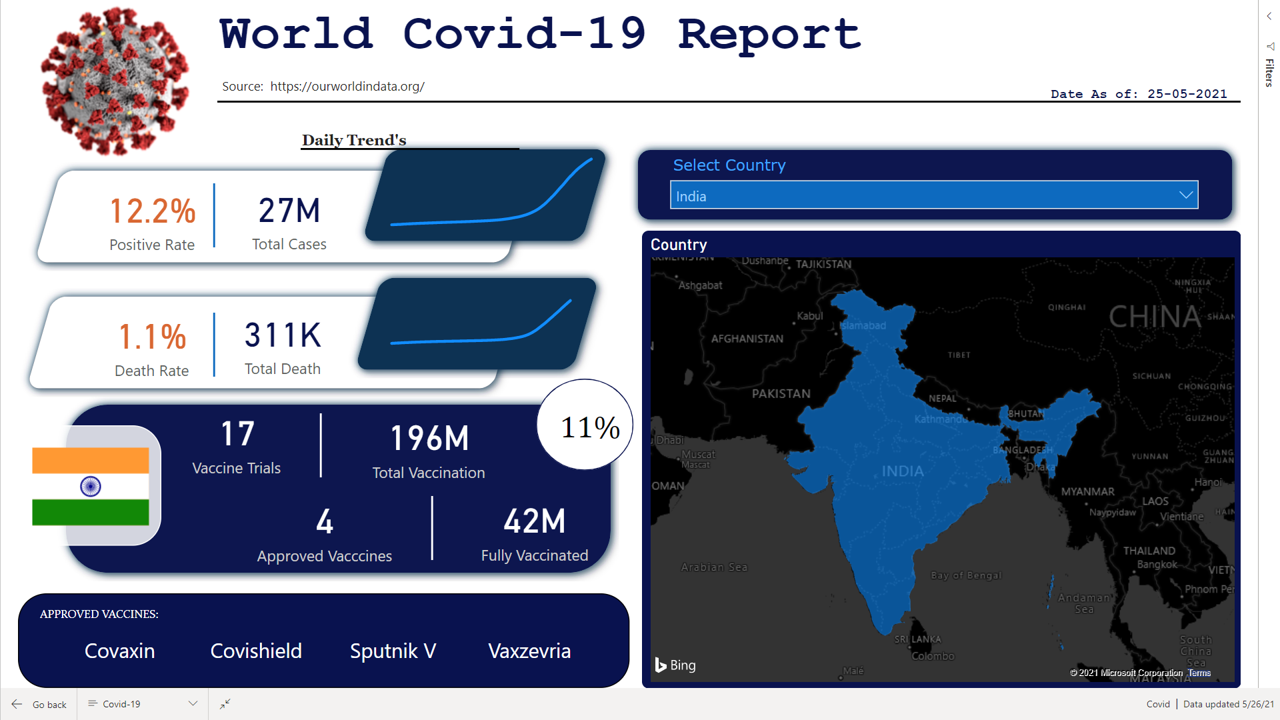

This screenshot's page, from the dashboard's own definition file:
{"tool":"powerbi","page":{"name":"Covid-19","canvas":[1280,720],"ordinal":0},"visuals":[{"type":"group","id":"g1","title":"Group 2","box":[8.6,169.3,538.8,114],"z":0,"group":"g4"},{"type":"shape","box":[41.2,414.5,587.9,193.9],"z":0},{"type":"shape","box":[351.2,147.1,275.7,114.5],"z":1000,"group":"g4"},{"type":"group","id":"g2","title":"Group 4","box":[0,301.5,532.9,113.2],"z":1000},{"type":"shape","box":[8.6,169.3,538.8,114],"z":1500,"group":"g1"},{"type":"shape","box":[640,147.9,640,90.9],"z":2000},{"type":"filledMap","fields":{"Category":["CountryList.CovidCountry"]},"box":[653.3,241.2,626.7,478.8],"z":3000},{"type":"card","fields":{"Values":["Sum(Vaccine Trial List.Approved Vacccines)"]},"box":[244.8,497,151.5,111.5],"z":4000},{"type":"shape","box":[343.4,281.8,274.5,114.5],"z":5000},{"type":"slicer","fields":{"Values":["CountryList.CovidCountry"]},"box":[672.7,157.6,573.3,83.6],"z":6000},{"type":"shape","box":[0,301.5,533.3,113.9],"z":6000,"group":"g2"},{"type":"card","title":"Total Cases","fields":{"Values":["Max(owid-covid-data.total_vaccinations)"]},"box":[357.6,409.7,144.2,111.5],"z":7000},{"type":"group","id":"g3","title":"Group 1","box":[465.5,497,151.5,111.5],"z":8000},{"type":"textbox","box":[206.1,1.2,1073.9,120],"z":9000},{"type":"textbox","box":[283.6,132.1,135.8,30.3],"z":10000},{"type":"shape","box":[541.8,396.4,101.8,95.8],"z":11000},{"type":"card","fields":{"Values":["Max(owid-covid-data.VaccinationRate)"]},"box":[553.9,389.1,89.7,111.5],"z":12000},{"type":"group","id":"g4","title":"Group 3","box":[8.6,147.1,618.3,136.3],"z":13000},{"type":"image","box":[0,0,202.4,169.7],"z":14000},{"type":"card","fields":{"Values":["Max(owid-covid-data.Death Rate)"]},"box":[77.6,305.5,124.8,106.7],"z":15000},{"type":"card","title":"Total Cases","fields":{"Values":["Max(owid-covid-data.total_deaths)"]},"box":[213.3,307.9,127.3,99.4],"z":16000},{"type":"lineChart","fields":{"Y":["Max(owid-covid-data.total_deaths)"],"Category":["owid-covid-data.date"]},"box":[375.8,276.4,217,101.8],"z":17000},{"type":"lineChart","fields":{"Category":["owid-covid-data.date"],"Y":["Max(owid-covid-data.total_cases)"]},"box":[375.8,140.6,238.8,100.6],"z":18000},{"type":"card","fields":{"Values":["Max(owid-covid-data.positive_rate)"]},"box":[38.2,180.9,204.8,93.3],"z":18000,"group":"g4"},{"type":"card","title":"Total Cases","fields":{"Values":["Max(owid-covid-data.people_fully_vaccinated)"]},"box":[465.5,497,151,111],"z":18000,"group":"g3"},{"type":"textbox","box":[208.5,76.4,298.2,35.2],"z":19000},{"type":"card","title":"Total Cases","fields":{"Values":["Max(owid-covid-data.total_cases)"]},"box":[190.9,177.3,186.7,99.4],"z":19000,"group":"g4"},{"type":"slicer","fields":{"Values":["VaccineApproveList.VName"]},"box":[0,620.6,640,99.4],"z":20000},{"type":"simpleImageEBC4593F96F1425FB3D84C5BF02B5075","fields":{"imageURL":["Country_Flags.ImageURL"]},"box":[0,444.8,150.3,126.1],"z":21000},{"type":"card","fields":{"Values":["Sum(Vaccine Trial List.Vaccine Trials)"]},"box":[161.2,409.7,134.5,101.8],"z":22000},{"type":"shape","box":[133.3,191.5,144.2,66.7],"z":23000},{"type":"shape","box":[133.3,327.3,144.2,66.7],"z":24000},{"type":"shape","box":[244.8,432.7,144.2,66.7],"z":25000},{"type":"shape","box":[361.2,518.8,144.2,66.7],"z":26000},{"type":"shape","box":[295.8,121.2,229.1,69.1],"z":27000},{"type":"shape","box":[208.5,71.5,1071.5,69.1],"z":27001}]}

Visuals, with their boxes on the page's 1280x720 design canvas (x1, y1, x2, y2). These are canvas units, not pixel positions in the 1280x720 screenshot, which may show the page scaled, cropped or inside an application window:
"Group 2" group: l=9, t=169, r=547, b=283
shape: l=41, t=414, r=629, b=608
shape: l=351, t=147, r=627, b=262
"Group 4" group: l=0, t=302, r=533, b=415
shape: l=9, t=169, r=547, b=283
shape: l=640, t=148, r=1280, b=239
filledMap - CountryList.CovidCountry: l=653, t=241, r=1280, b=720
card - Sum(Vaccine Trial List.Approved Vacccines): l=245, t=497, r=396, b=608
shape: l=343, t=282, r=618, b=396
slicer - CountryList.CovidCountry: l=673, t=158, r=1246, b=241
shape: l=0, t=302, r=533, b=415
"Total Cases" card: l=358, t=410, r=502, b=521
"Group 1" group: l=466, t=497, r=617, b=608
textbox: l=206, t=1, r=1280, b=121
textbox: l=284, t=132, r=419, b=162
shape: l=542, t=396, r=644, b=492
card - Max(owid-covid-data.VaccinationRate): l=554, t=389, r=644, b=501
"Group 3" group: l=9, t=147, r=627, b=283
image: l=0, t=0, r=202, b=170
card - Max(owid-covid-data.Death Rate): l=78, t=306, r=202, b=412
"Total Cases" card: l=213, t=308, r=341, b=407
lineChart - Max(owid-covid-data.total_deaths) x owid-covid-data.date: l=376, t=276, r=593, b=378
lineChart - owid-covid-data.date x Max(owid-covid-data.total_cases): l=376, t=141, r=615, b=241
card - Max(owid-covid-data.positive_rate): l=38, t=181, r=243, b=274
"Total Cases" card: l=466, t=497, r=616, b=608
textbox: l=208, t=76, r=507, b=112
"Total Cases" card: l=191, t=177, r=378, b=277
slicer - VaccineApproveList.VName: l=0, t=621, r=640, b=720
simpleImageEBC4593F96F1425FB3D84C5BF02B5075 - Country_Flags.ImageURL: l=0, t=445, r=150, b=571
card - Sum(Vaccine Trial List.Vaccine Trials): l=161, t=410, r=296, b=512
shape: l=133, t=192, r=278, b=258
shape: l=133, t=327, r=278, b=394
shape: l=245, t=433, r=389, b=499
shape: l=361, t=519, r=505, b=586
shape: l=296, t=121, r=525, b=190
shape: l=208, t=72, r=1280, b=141
